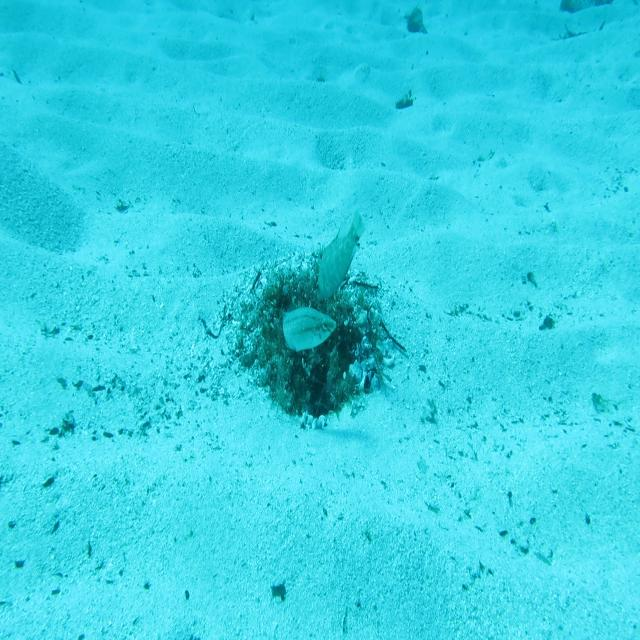NIP_CORE: (315, 207, 367, 303)
core_nest: (278, 278, 342, 322)
female: (279, 302, 338, 353)
nest: (226, 258, 400, 436)
vegetation: (402, 2, 434, 40), (556, 0, 616, 15), (270, 582, 286, 603), (395, 94, 414, 110)
